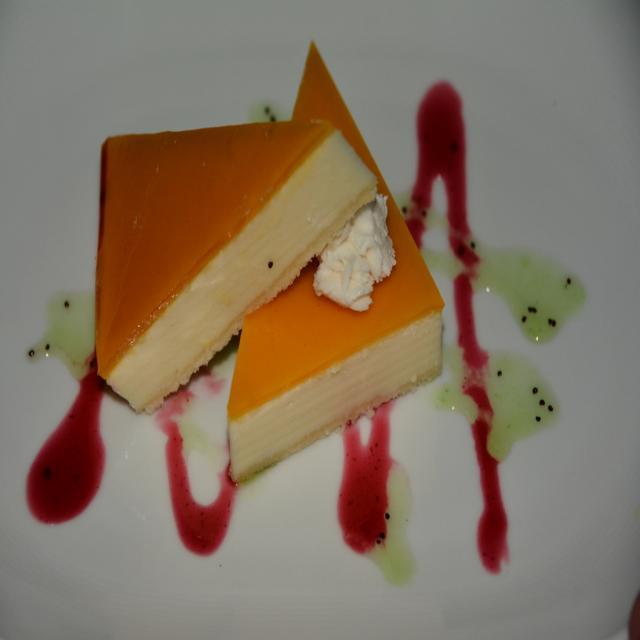Cheese: (316, 189, 398, 315)
